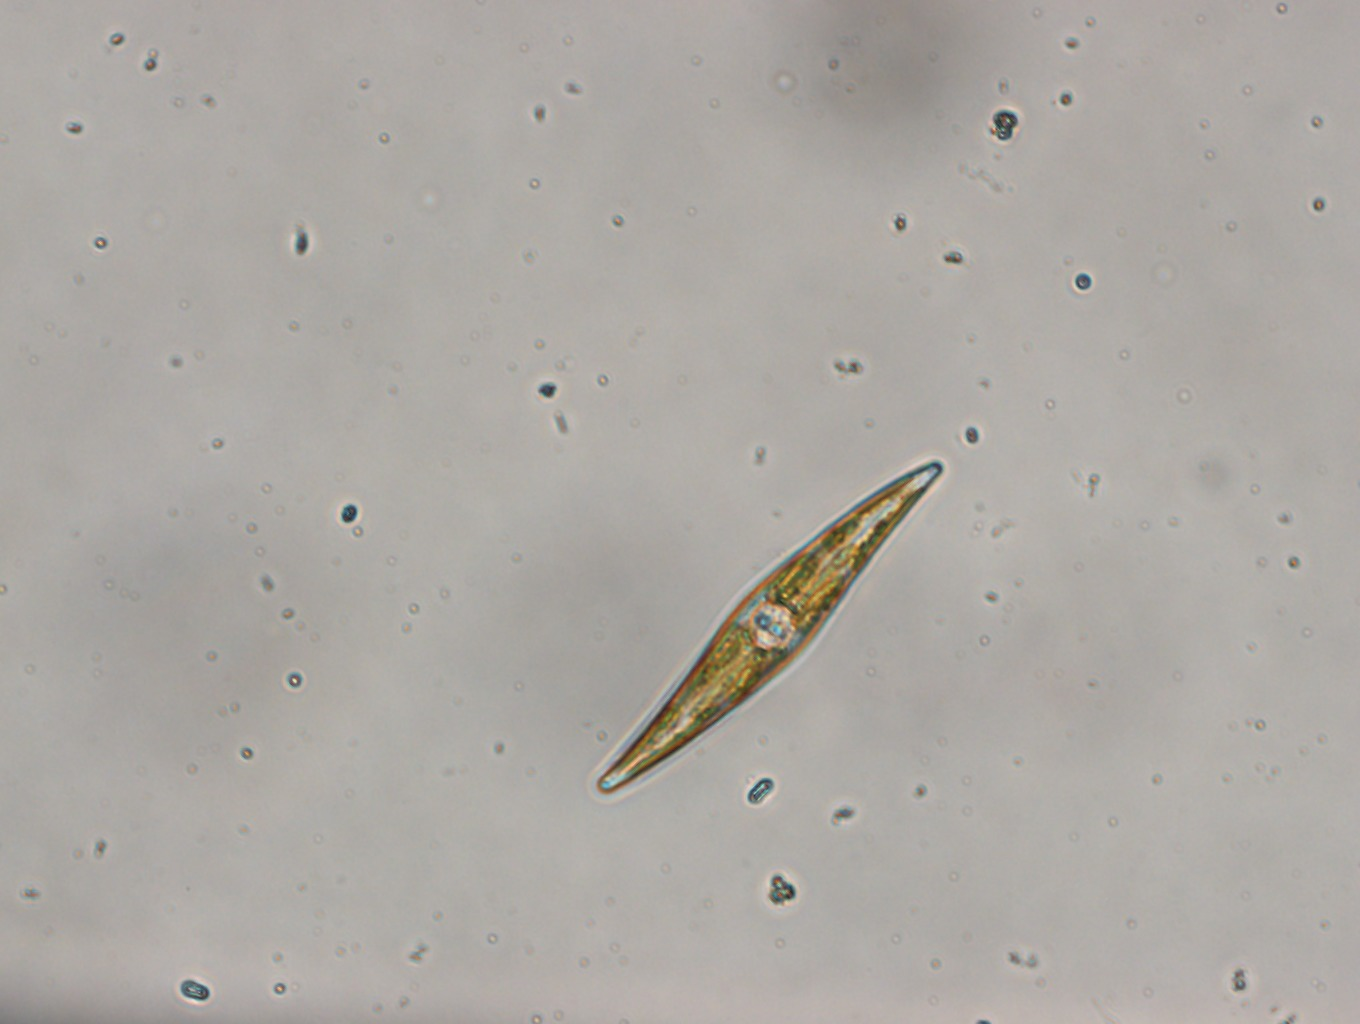pleurosigma pelagicum: (595, 459, 943, 799)
